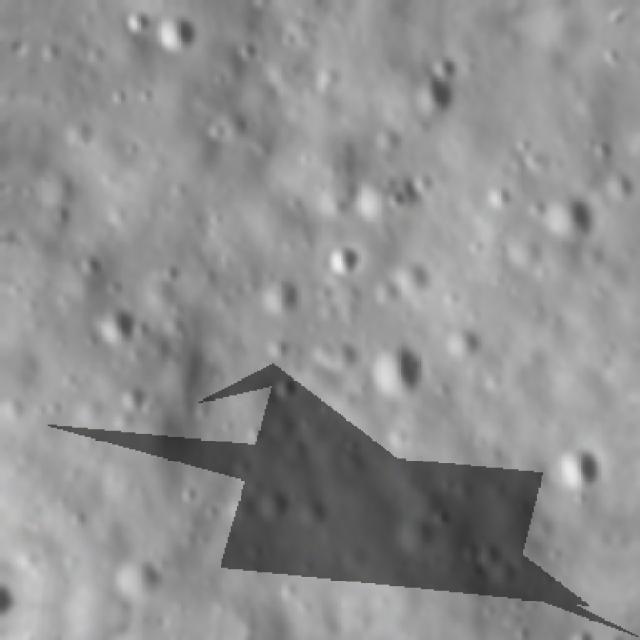crater: (362, 339, 429, 407), (144, 4, 211, 62), (109, 555, 171, 610), (544, 187, 598, 248), (249, 264, 308, 319), (86, 296, 140, 352), (551, 439, 604, 492), (404, 68, 461, 114), (392, 162, 448, 208), (248, 481, 288, 532), (321, 242, 365, 287), (109, 0, 154, 43), (116, 374, 156, 414), (270, 373, 301, 405), (74, 247, 105, 276)
